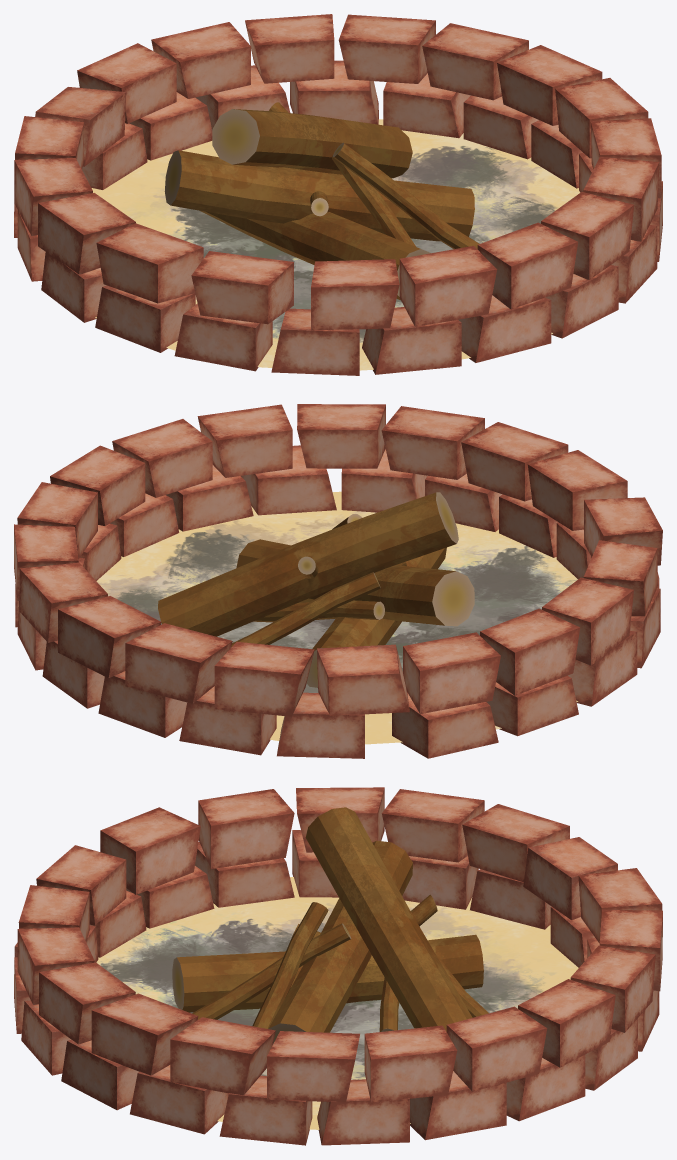
The model's file is campfirebrickdouble.fbx.
3 views of the same model, one above another, from view 1: azimuth 30°, elevation 25°; view 2: azimuth 150°, elevation 25°; view 3: azimuth 270°, elevation 25° (orthographic).
Visible parts, largest first — view 1: ashes; view 2: ashes; view 3: ashes.
Boxes of the visible parts, <box> form: ashes: <box>14,14,662,375</box>; ashes: <box>14,404,662,758</box>; ashes: <box>14,787,662,1145</box>.
Bounding box in the file's own units: 7.01 × 2 × 7.06.
